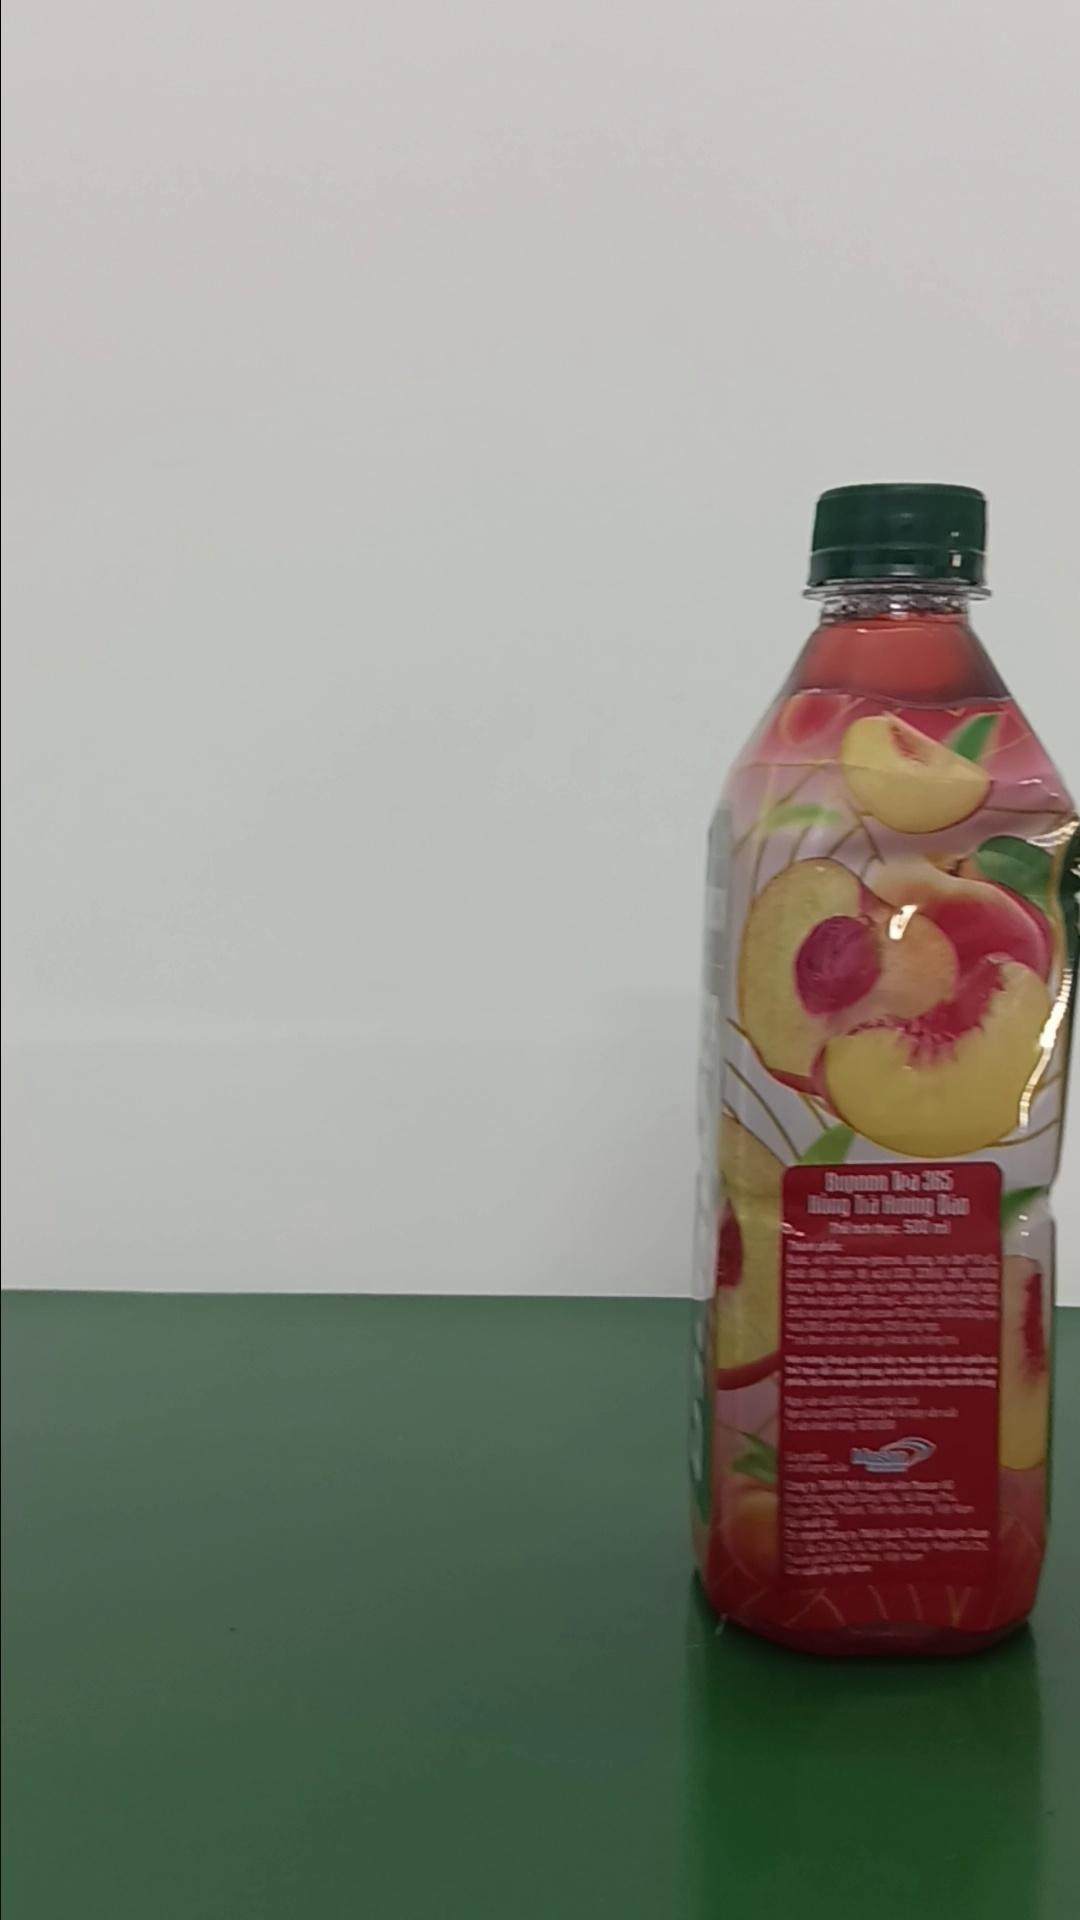loi meo sp: (684, 479, 1075, 1658)
